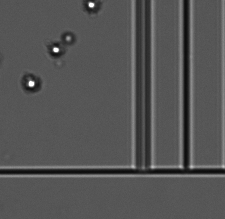Living Cell: (22, 74, 41, 92), (48, 42, 63, 56), (62, 31, 76, 45), (85, 1, 99, 12)
